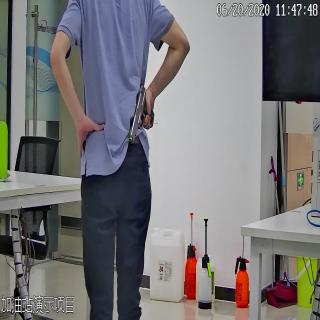gun: (128, 82, 156, 144)
